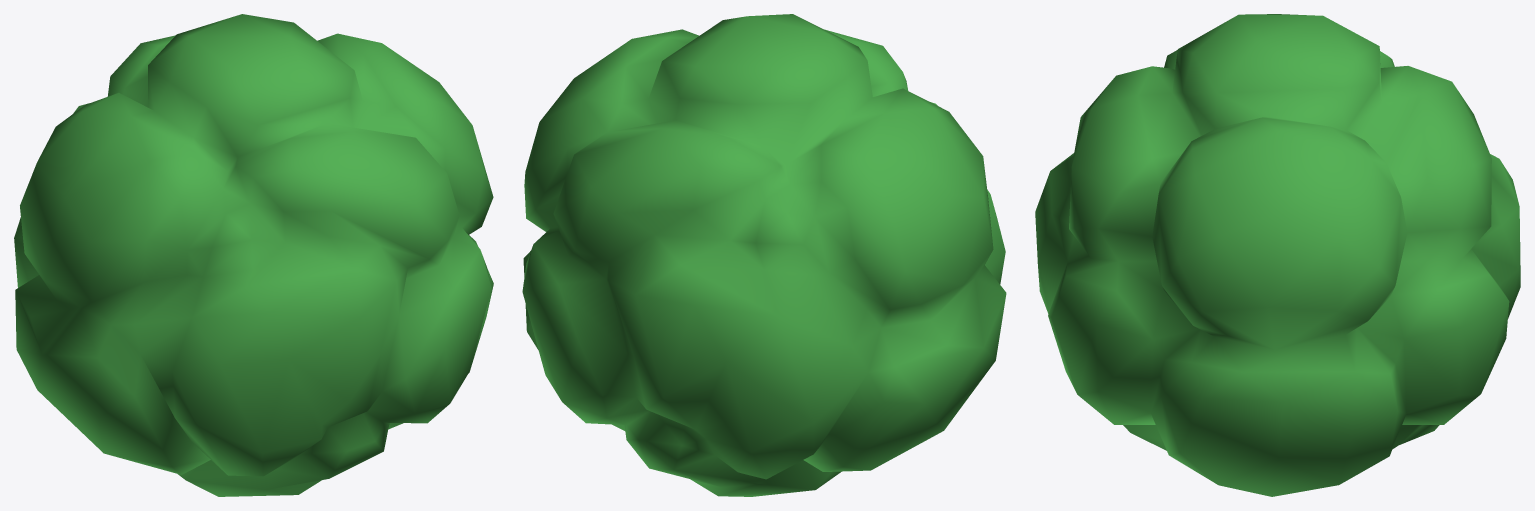
Rendered from bush.glb.
The picture shows the model from 3 angles, left to right: view 1: azimuth 30°, elevation 25°; view 2: azimuth 150°, elevation 25°; view 3: azimuth 270°, elevation 25°; orthographic projection.
Visible parts, largest first — view 1: Mesh_0; view 2: Mesh_0; view 3: Mesh_0.
Part boxes in pixels (bbox=[...]): Mesh_0: bbox=[14, 14, 493, 496]; Mesh_0: bbox=[522, 14, 1006, 496]; Mesh_0: bbox=[1035, 14, 1520, 496].
Size of the model in its own units: 1 by 0.9843 by 0.9774.
1 material, 1 textured.
